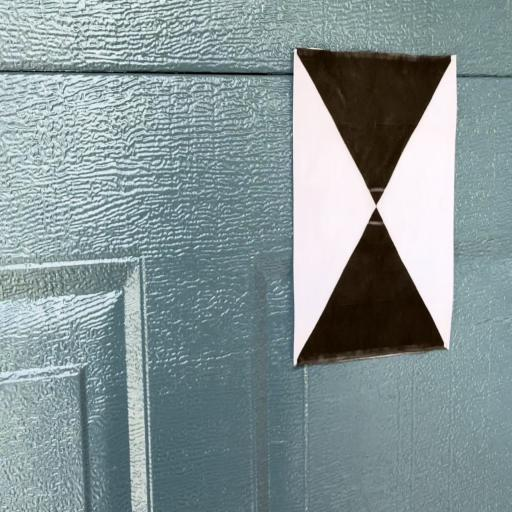target: (296, 50, 450, 353)
